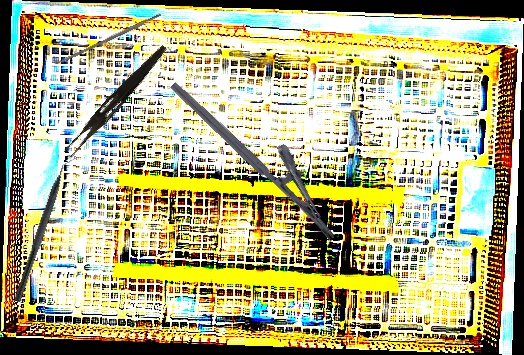Chopper: (13, 152, 79, 306)
Dressing Forceps: (63, 39, 169, 162)
Needle Holder: (168, 58, 358, 244)
Scalpel Handle: (54, 12, 163, 67)
